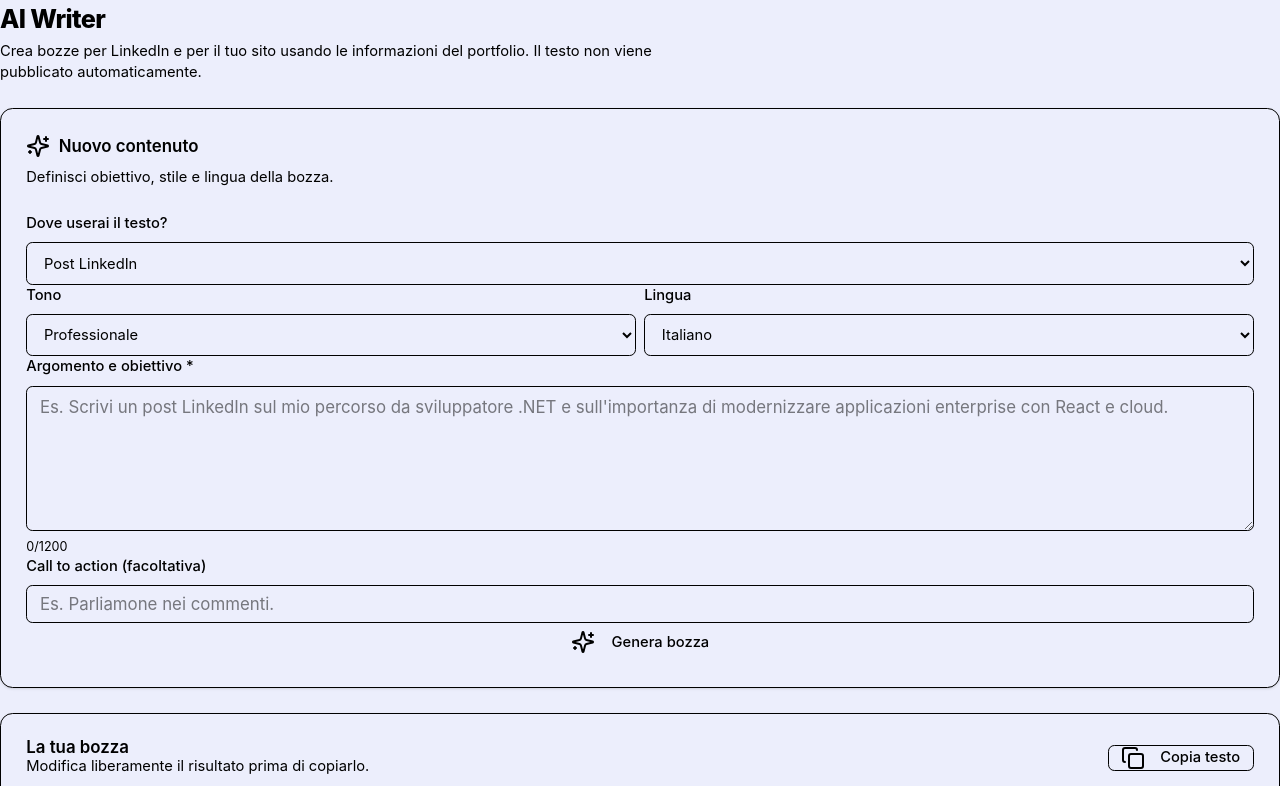
Test: AiWriterPage › generates a LinkedIn draft using the selected tone and language
Step 1. Type "Il mio percorso .NET" into the text box labelled "Argomento e obiettivo *" → (640, 458), box [26, 386, 1254, 530]
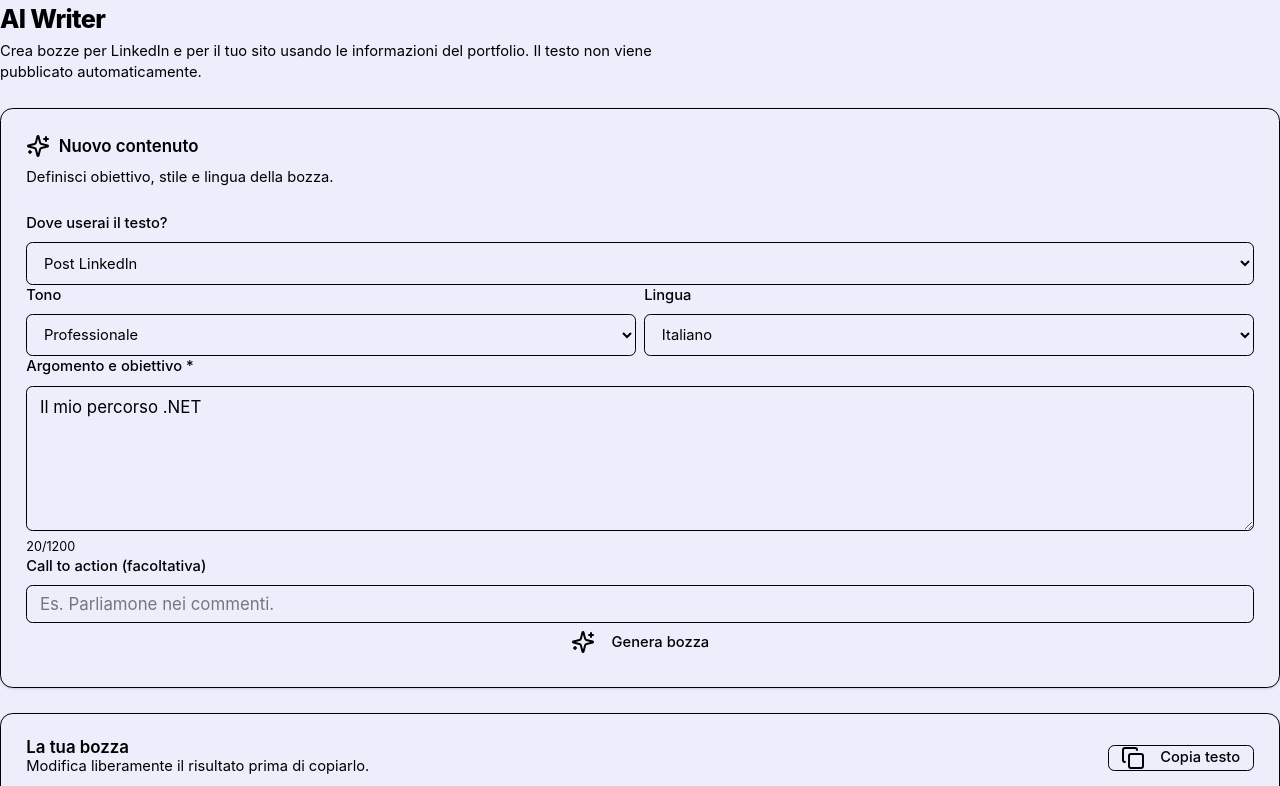
Step 2. Select "Tecnico" in the dropdown labelled "Tono" → (331, 335), box [26, 314, 636, 356]
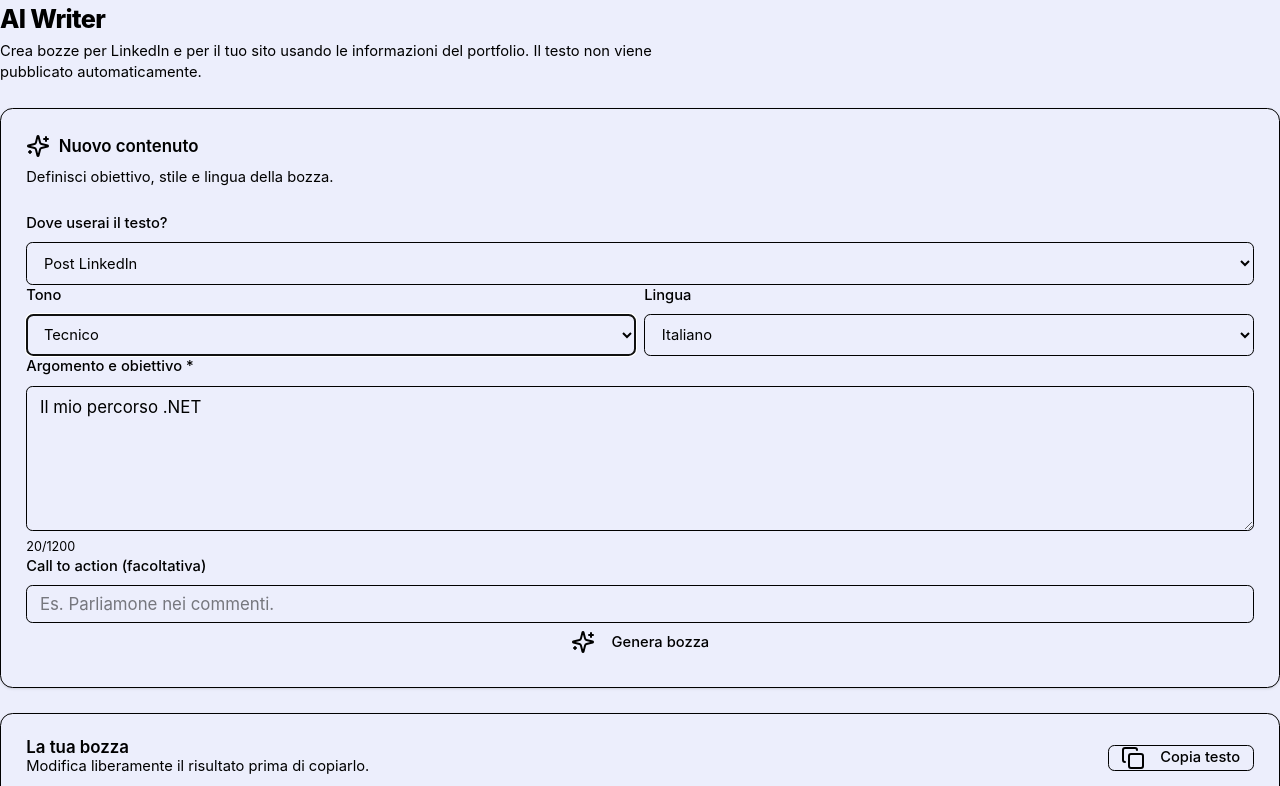
Step 3. Select "English" in the dropdown labelled "Lingua" → (949, 335), box [644, 314, 1254, 356]
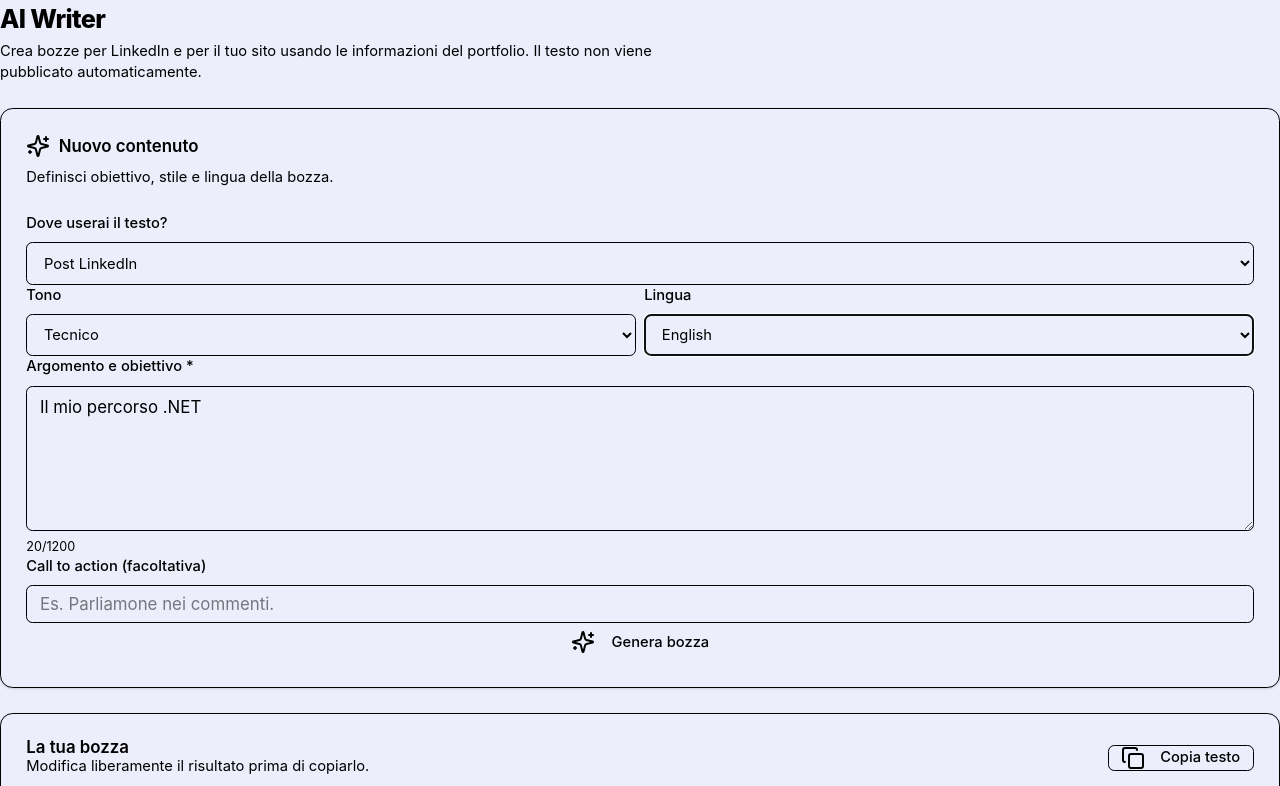
Step 4. Type "Let us connect" into the field labelled "Call to action (facoltativa)" → (640, 604), box [26, 585, 1254, 623]
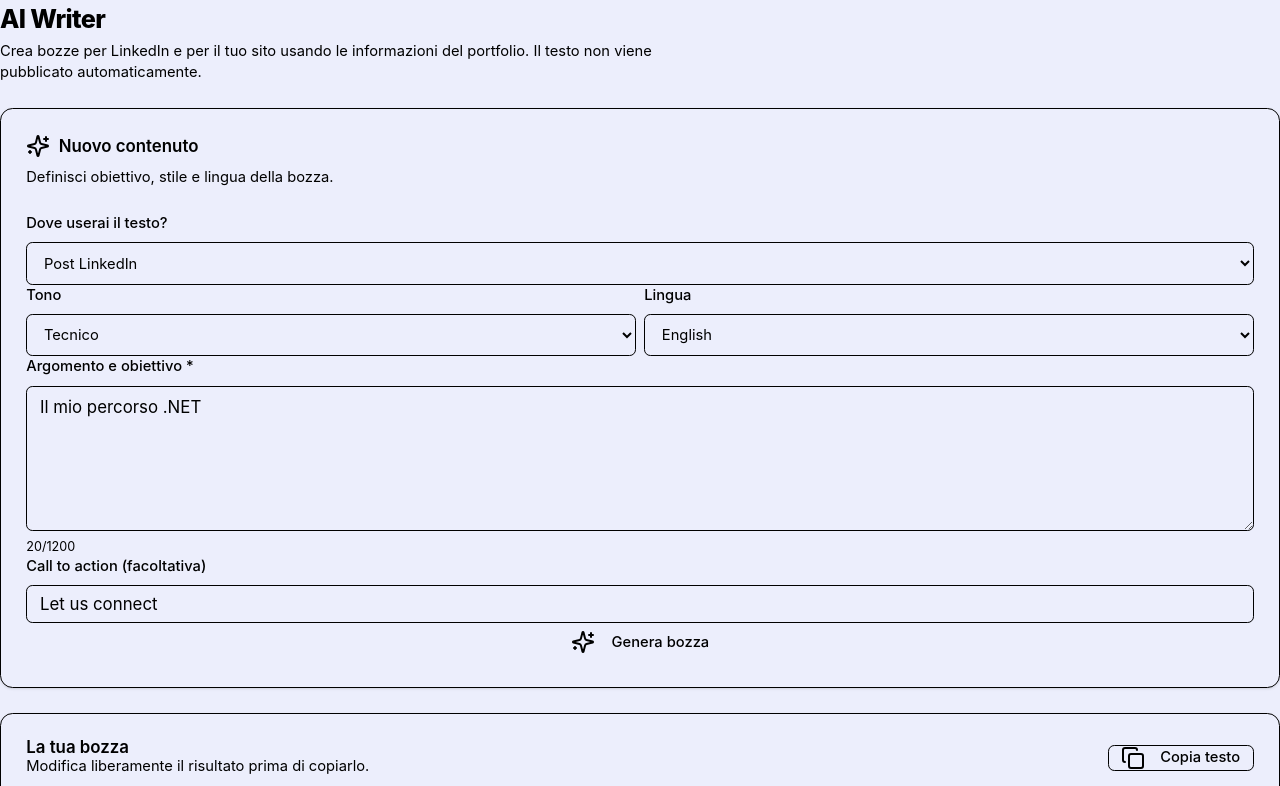
Step 5. Click the button "Genera bozza" → (640, 642), box [26, 623, 1254, 661]
(page scrolled)
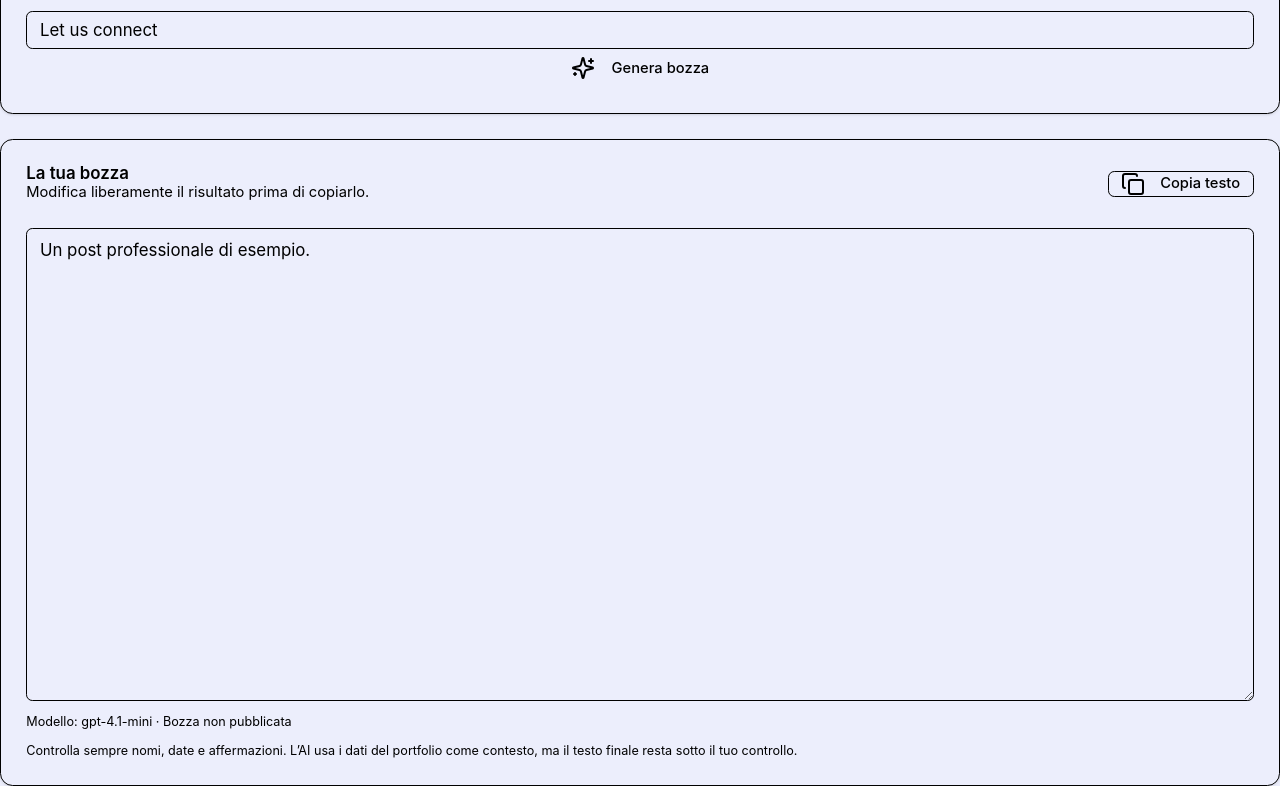
expect the text box named "bozza generata" holds "Un post professionale di esempio.": met, box [26, 228, 1254, 701]
expect the text "Modello: gpt-4.1-mini · Bozza non pubblicata" is shown: met, box [26, 714, 292, 729]
